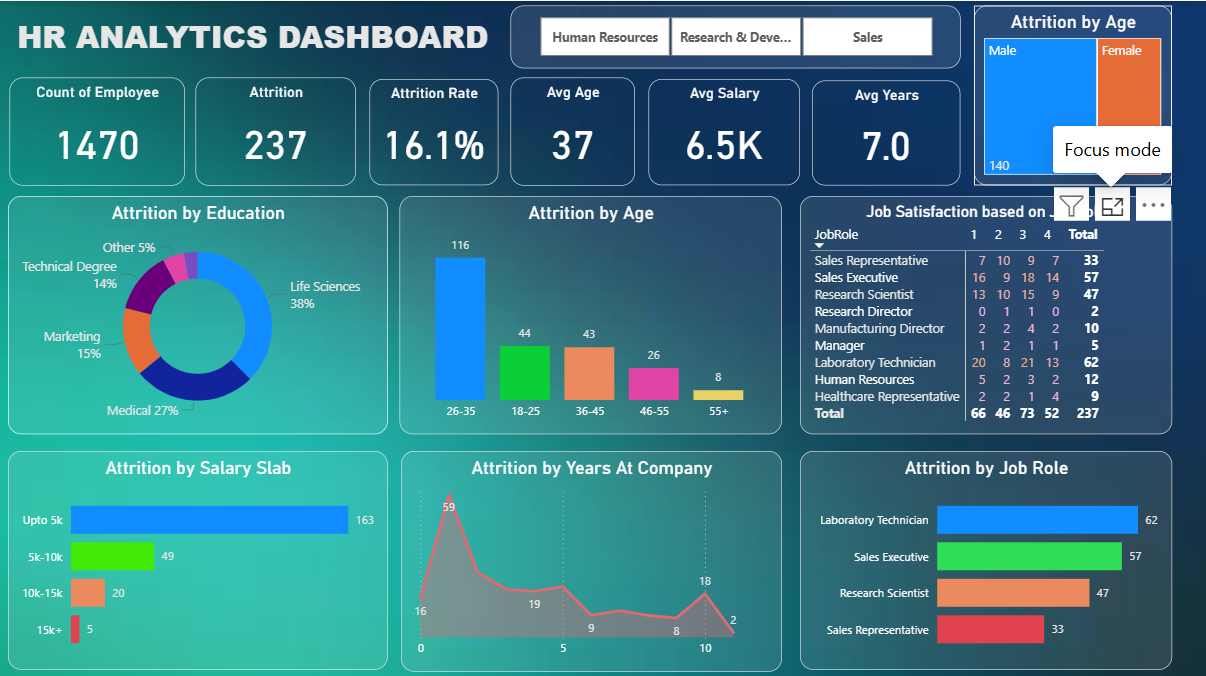

This screenshot's page, from the dashboard's own definition file:
{"tool":"powerbi","page":{"name":"Page 1","canvas":[1280,720],"ordinal":0},"visuals":[{"type":"card","title":"Count of Employee","fields":{"Values":["CountNonNull(HR_Analytics.EmpID)"]},"box":[11.1,81.1,186.1,114.5],"z":0},{"type":"card","title":"Avg Age","fields":{"Values":["Avg(HR_Analytics.Age)"]},"box":[542.4,81.1,132,114.5],"z":1000},{"type":"card","title":"Attrition Rate","fields":{"Values":["HR_Analytics.AttritionRate"]},"box":[392.9,82.7,136.8,112.9],"z":2000},{"type":"card","title":"Attrition","fields":{"Values":["Sum(HR_Analytics.Attrition_count)"]},"box":[208.4,81.1,170.2,114.5],"z":3000},{"type":"card","title":"Avg Salary","fields":{"Values":["Avg(HR_Analytics.MonthlyIncome)"]},"box":[688.7,82.7,160.7,112.9],"z":4000},{"type":"card","title":"Avg Years","fields":{"Values":["Avg(HR_Analytics.YearsAtCompany)"]},"box":[862.1,84.3,157.5,111.3],"z":5000},{"type":"donutChart","title":"Attrition by Education","fields":{"Category":["HR_Analytics.EducationField"],"Y":["Sum(HR_Analytics.Attrition_count)"]},"box":[9.5,206.8,402.4,252.9],"z":6000},{"type":"columnChart","title":"Attrition by Age","fields":{"Category":["HR_Analytics.AgeGroup"],"Y":["Sum(HR_Analytics.Attrition_count)"]},"box":[424.7,206.8,405.6,252.9],"z":7000},{"type":"pivotTable","title":"Job Satisfaction based on Job role","fields":{"Rows":["HR_Analytics.JobRole"],"Columns":["HR_Analytics.JobSatisfaction"],"Values":["Sum(HR_Analytics.Attrition_count)"]},"box":[849.4,206.8,394.5,252.9],"z":8000},{"type":"barChart","title":"Attrition by Salary Slab","fields":{"Category":["HR_Analytics.SalarySlab"],"Y":["Sum(HR_Analytics.Attrition_count)"]},"box":[9.5,477.2,402.4,232.2],"z":9000},{"type":"barChart","title":"Attrition by Job Role","fields":{"Category":["HR_Analytics.JobRole"],"Y":["Sum(HR_Analytics.Attrition_count)"]},"box":[849.4,477.2,394.5,232.2],"z":10000},{"type":"areaChart","title":"Attrition by Years At Company","fields":{"Category":["HR_Analytics.YearsAtCompany"],"Y":["Sum(HR_Analytics.Attrition_count)"]},"box":[426.3,477.2,404,233.8],"z":11000},{"type":"treemap","title":"Attrition by Age","fields":{"Group":["HR_Analytics.Gender"],"Values":["Sum(HR_Analytics.Attrition_count)"]},"box":[1033.9,4.8,210,190.9],"z":12000},{"type":"slicer","fields":{"Values":["HR_Analytics.Department"]},"box":[542.4,4.8,477.2,66.8],"z":13000},{"type":"textbox","box":[14.3,9.5,528.1,57.3],"z":14000}]}

Visuals, with their boxes in screenshot pixels (x1, y1, x2, y2), scaled from the page's 1280x720 canvas onto the 1206x676 screenshot:
"Count of Employee" card: x1=10, y1=76, x2=186, y2=184
"Avg Age" card: x1=511, y1=76, x2=635, y2=184
"Attrition Rate" card: x1=370, y1=78, x2=499, y2=184
"Attrition" card: x1=196, y1=76, x2=357, y2=184
"Avg Salary" card: x1=649, y1=78, x2=800, y2=184
"Avg Years" card: x1=812, y1=79, x2=961, y2=184
"Attrition by Education" donutChart: x1=9, y1=194, x2=388, y2=432
"Attrition by Age" columnChart: x1=400, y1=194, x2=782, y2=432
"Job Satisfaction based on Job role" pivotTable: x1=800, y1=194, x2=1172, y2=432
"Attrition by Salary Slab" barChart: x1=9, y1=448, x2=388, y2=666
"Attrition by Job Role" barChart: x1=800, y1=448, x2=1172, y2=666
"Attrition by Years At Company" areaChart: x1=402, y1=448, x2=782, y2=668
"Attrition by Age" treemap: x1=974, y1=5, x2=1172, y2=184
slicer - HR_Analytics.Department: x1=511, y1=5, x2=961, y2=67
textbox: x1=13, y1=9, x2=511, y2=63
